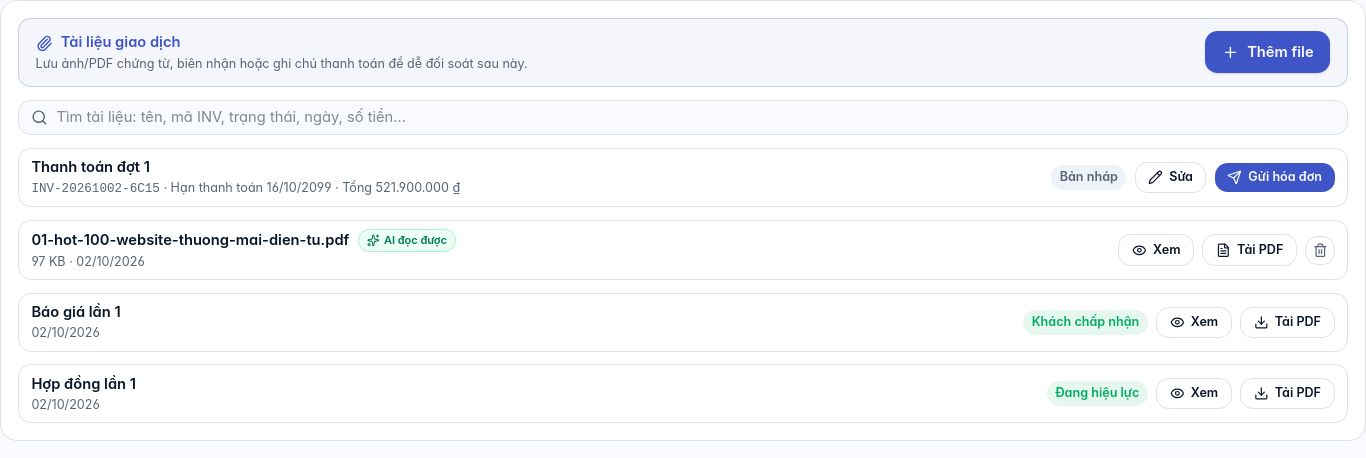
Test: thanh tìm kiếm trong tab Tài liệu › gõ mã INV thì chỉ còn hóa đơn đó
In the field labelled "Tìm tài liệu": (696, 117) [57,107,1335,128], type "inv-20261002"
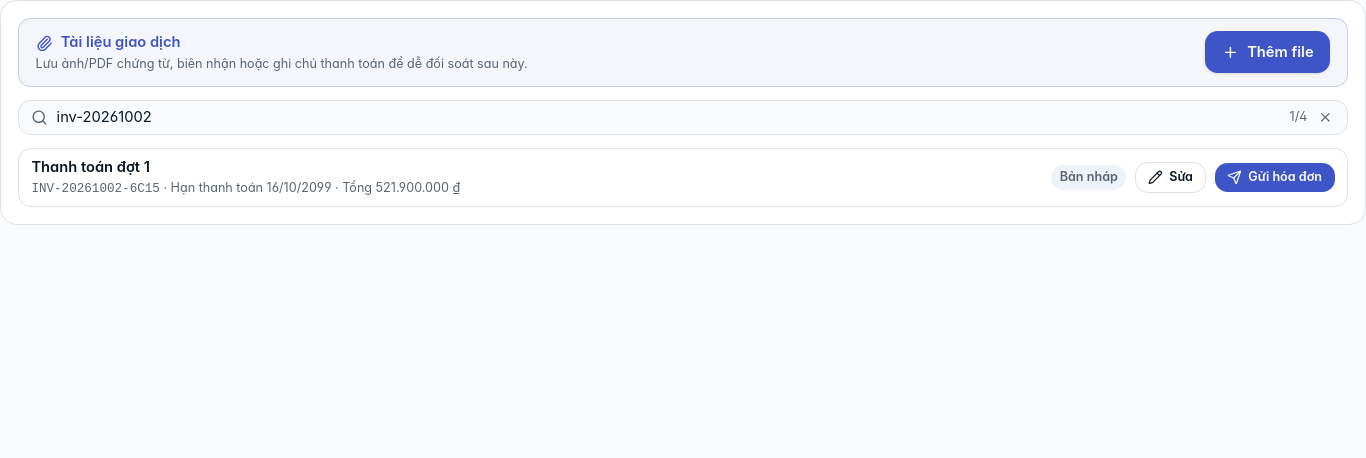
Check: the text "Báo giá lần 1" is gone
Check: the text "Hợp đồng lần 1" is gone
Check: the text "01-hot-100-website" is gone
